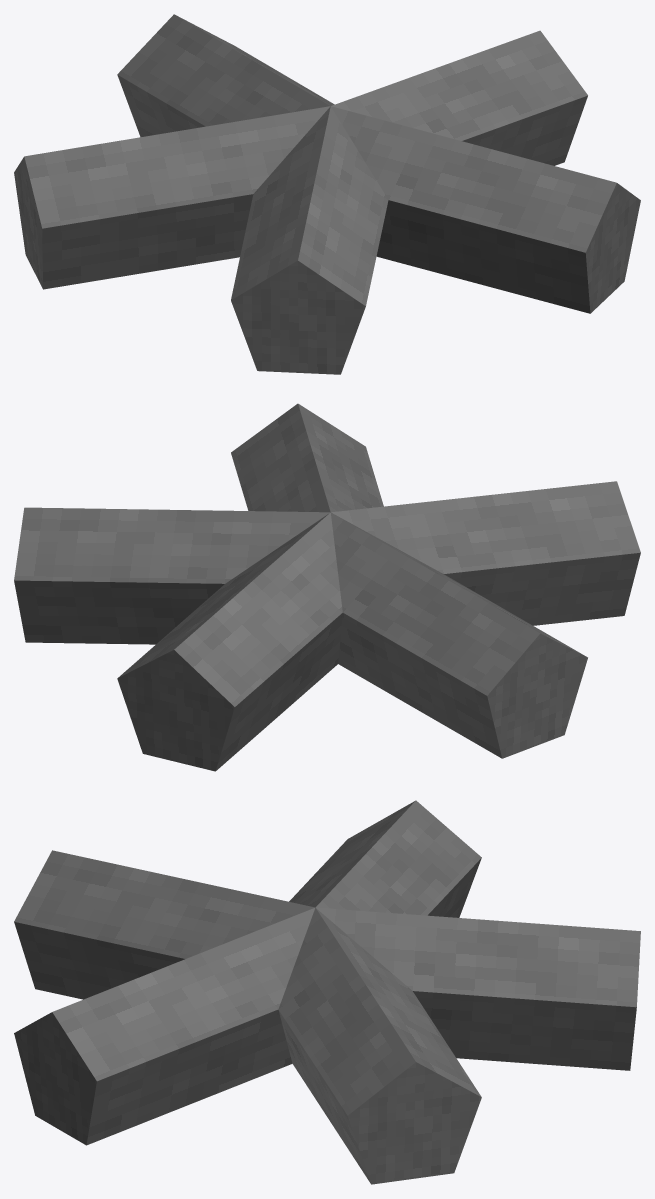
The model's file is campfire.glb.
3 renders of one model, top to bottom at view 1: azimuth 30°, elevation 25°; view 2: azimuth 150°, elevation 25°; view 3: azimuth 270°, elevation 25°, orthographic. The views are drawn at different scales.
Visible parts, largest first — view 1: campfire; view 2: campfire; view 3: campfire.
Part boxes in pixels (x1=…): campfire: x1=14, y1=14, x2=640, y2=374; campfire: x1=14, y1=403, x2=640, y2=771; campfire: x1=14, y1=800, x2=640, y2=1184.
Size of the model in its own units: 1.32 by 0.3232 by 1.27.
1 material, 1 textured.
